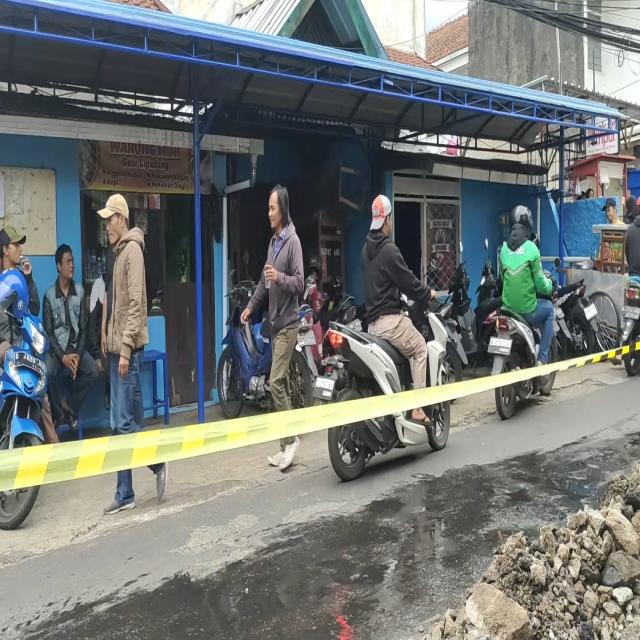helmet: (512, 202, 536, 238)
no-helmet: (369, 199, 393, 241)
